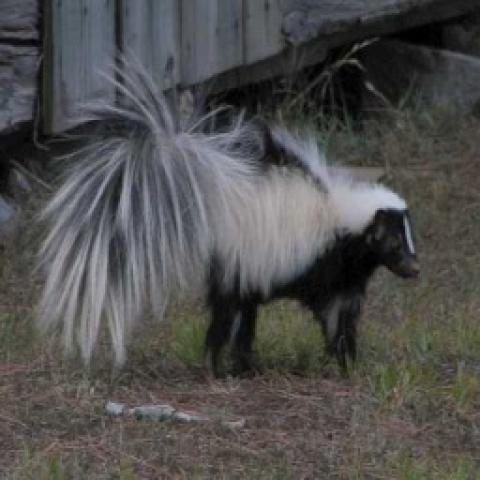small_animal: (28, 45, 424, 379)
